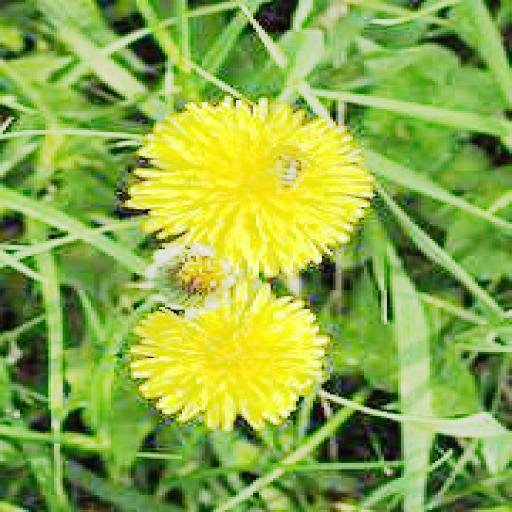dandelion: (139, 102, 364, 273), (122, 282, 338, 428)
